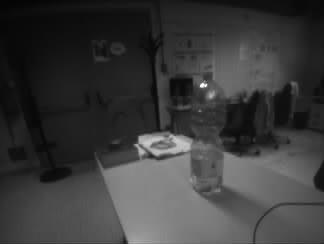Bottle: (190, 72, 223, 196)
